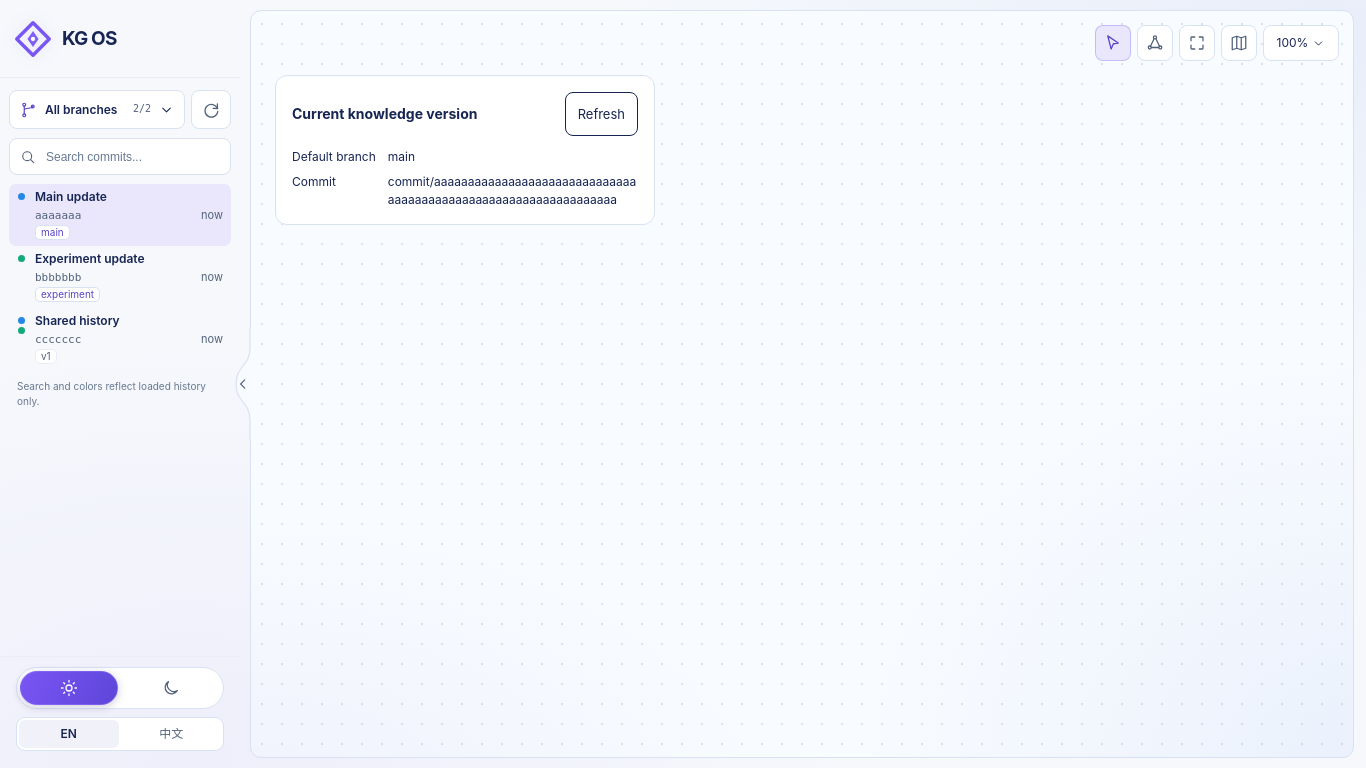
Test: keeps MCP tool errors local to the version list without losing overview
Step 1. Click the button named "Refresh versions" → coordinates (211, 110), box [191, 90, 231, 129]
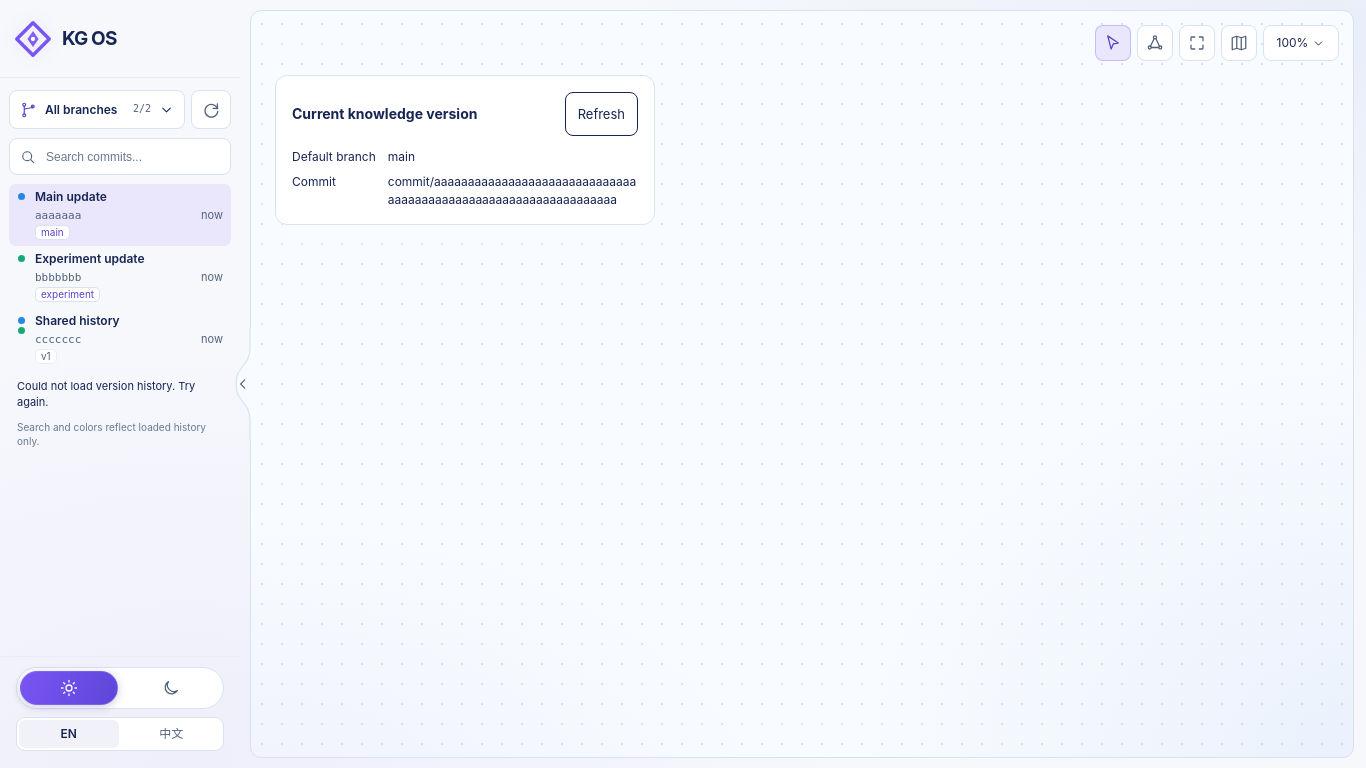
Expected: the number of buttons with class "commit-row" is 3, [9, 184, 231, 246]; [9, 246, 231, 308]; [9, 308, 231, 370]
Expected: the text "Could not load version history." is shown, [17, 379, 195, 409]
